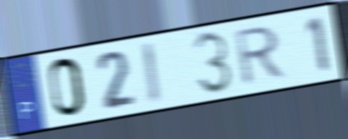0: (46, 55, 88, 119)
1: (304, 14, 334, 74)
2: (95, 49, 139, 112)
3: (190, 29, 235, 97)
I: (139, 39, 164, 108)
R: (234, 23, 289, 89)
